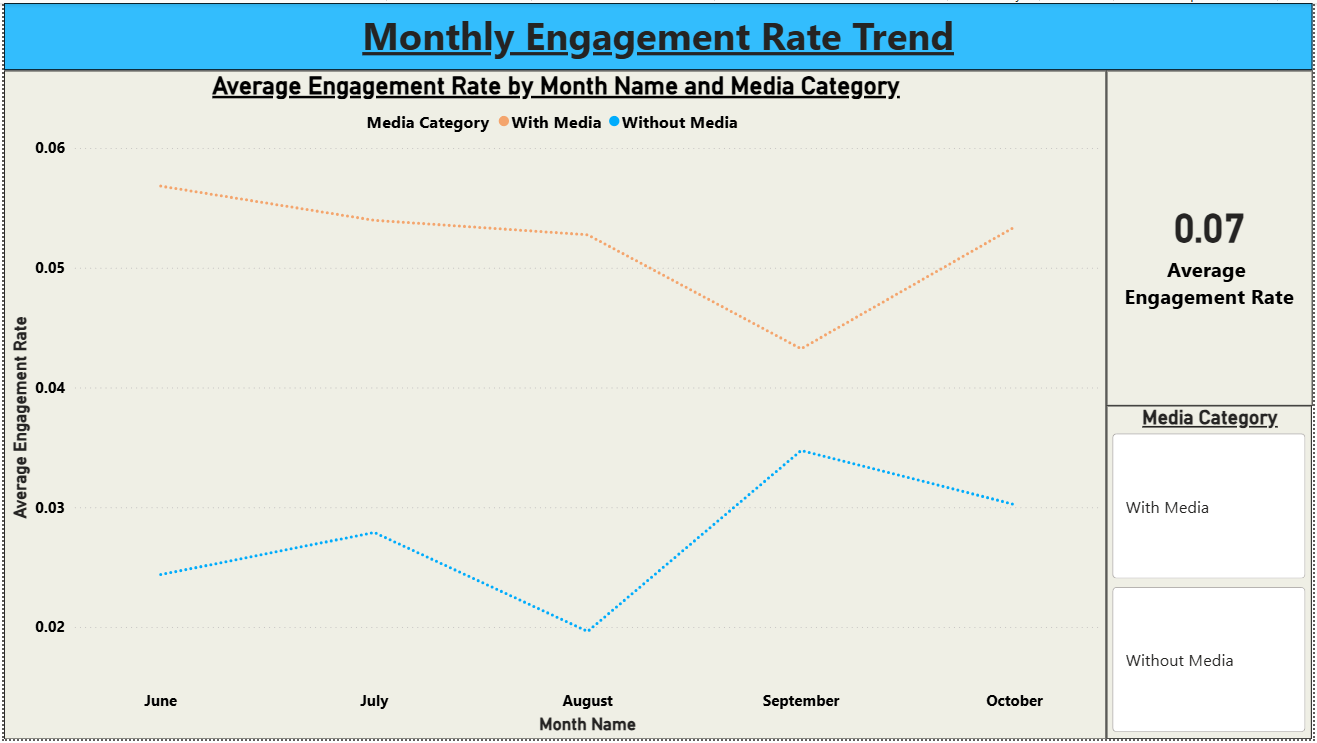

What the dashboard file says about the page in this screenshot:
{"tool":"powerbi","page":{"name":"Page 5","canvas":[1280,720],"ordinal":4},"visuals":[{"type":"textbox","box":[0,0,1280.3,65.9],"z":0},{"type":"lineChart","fields":{"Category":["Task5_data.Month Name"],"Y":["Avg(Task5_data.engagement rate)"],"Series":["Task5_data.Media Category"]},"box":[0,65.9,1078.6,654.5],"z":1000},{"type":"card","fields":{"Values":["Avg(Task5_data.engagement rate)"]},"box":[1078.6,65.9,201.7,328],"z":2000},{"type":"advancedSlicerVisual","fields":{"Values":["Task5_data.Media Category"]},"box":[1079,394,201,326],"z":3000}]}

Visuals, with their boxes in screenshot pixels (x1, y1, x2, y2), scaled from the page's 1280x720 canvas onto the 1317x743 screenshot:
textbox: pyautogui.locateOnScreen(0, 0, 1316, 68)
lineChart - Task5_data.Month Name x Avg(Task5_data.engagement rate): pyautogui.locateOnScreen(0, 68, 1110, 742)
card - Avg(Task5_data.engagement rate): pyautogui.locateOnScreen(1110, 68, 1316, 406)
advancedSlicerVisual - Task5_data.Media Category: pyautogui.locateOnScreen(1110, 407, 1316, 742)
